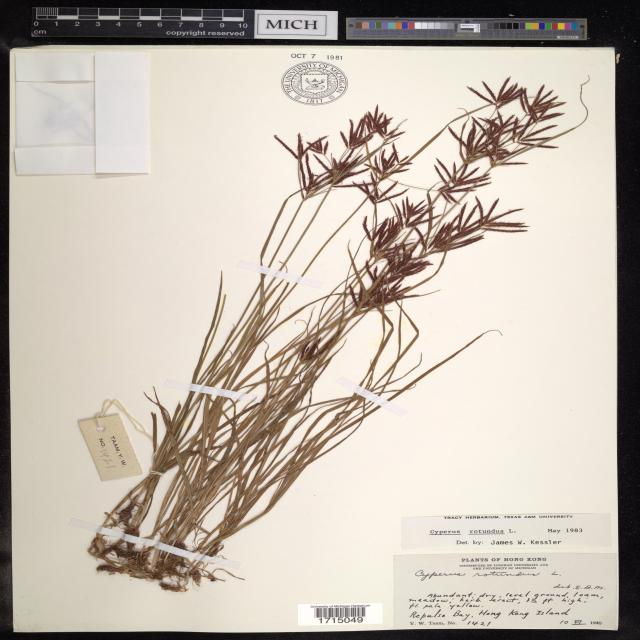cyperus: (272, 62, 568, 310), (338, 74, 570, 312), (275, 108, 417, 208)
